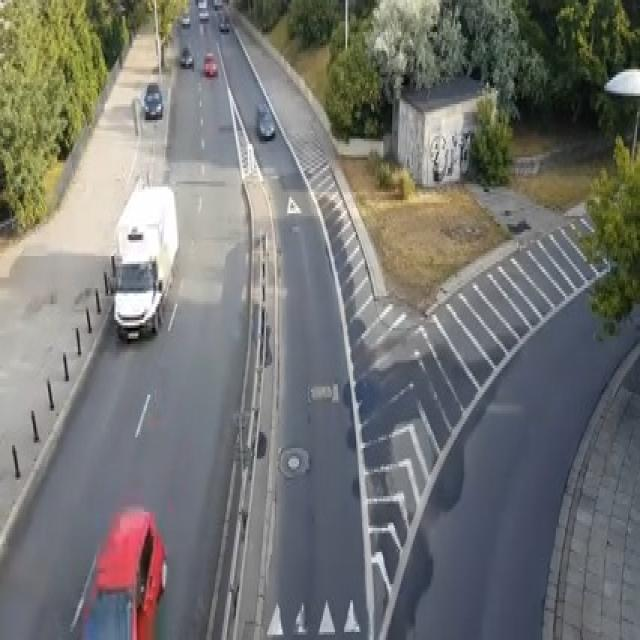bus: (69, 504, 167, 637), (108, 174, 179, 342)
car: (141, 83, 164, 117), (255, 101, 275, 139), (203, 50, 218, 74), (179, 45, 194, 67), (219, 13, 230, 32), (198, 6, 209, 22), (182, 13, 189, 27), (197, 0, 207, 8), (214, 0, 222, 8)
